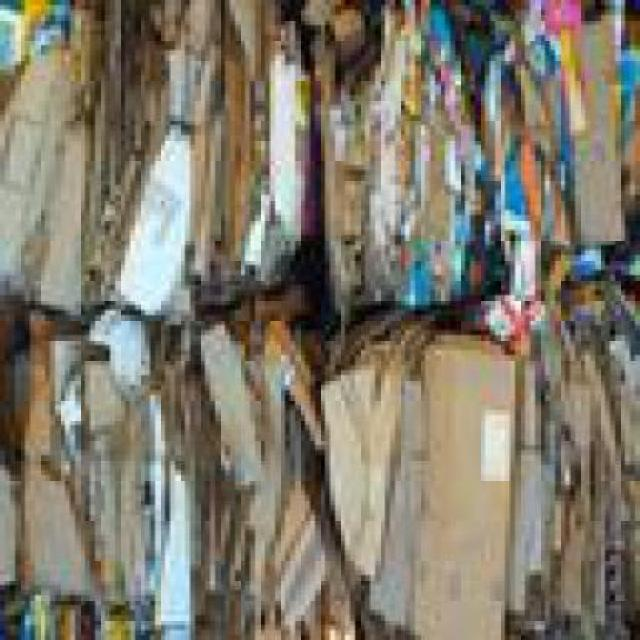CARDBOARD: (4, 4, 638, 638), (4, 324, 196, 638), (316, 4, 484, 324), (466, 6, 634, 294), (180, 324, 331, 638), (516, 296, 638, 638), (5, 6, 120, 334), (115, 5, 220, 330), (420, 330, 522, 638), (324, 330, 416, 638), (220, 5, 315, 300)
